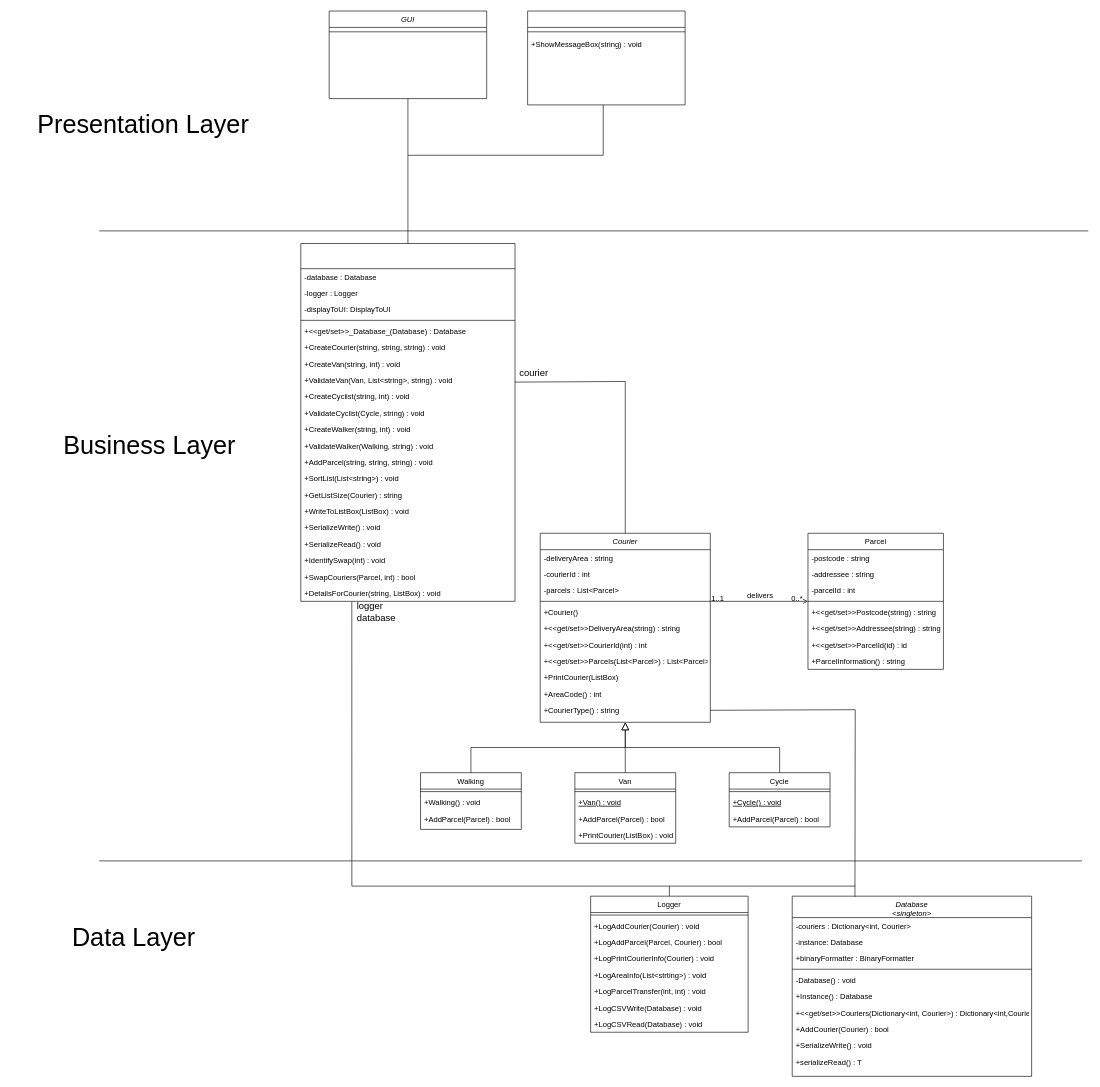
Some shapes in this 1100 by 1087 pixel diagram are drawn without their labels. The shapes that lost their labels are listed below. From the top down, each one's box as (x1, y1, x2, y2) in pixels, then its label:
(527, 10, 685, 105): DisplayToUI
(300, 243, 515, 601): DeliverySystem {facade}
